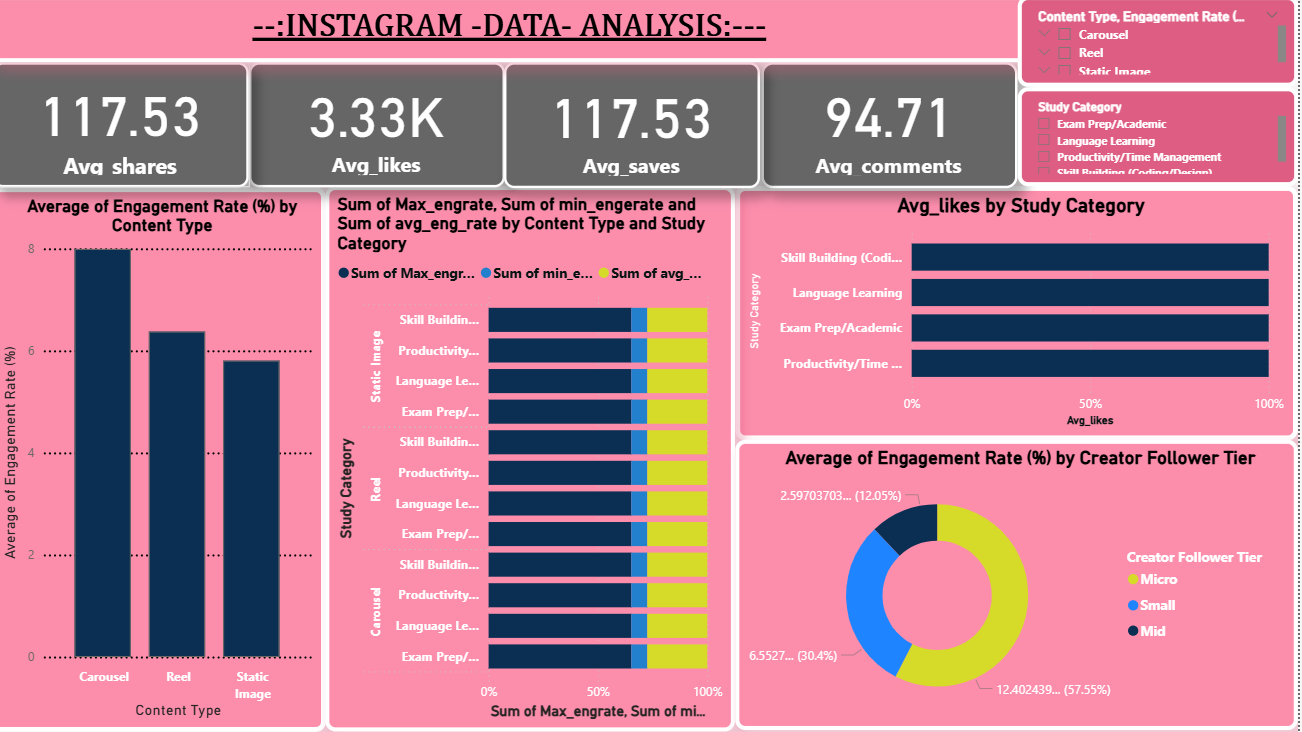

The page's visual inventory and layout, read from the dashboard file:
{"tool":"powerbi","page":{"name":"Page 2","canvas":[1280,720],"ordinal":10},"visuals":[{"type":"clusteredColumnChart","fields":{"Category":["Data.Content Type"],"Y":["Avg(Data.Engagement Rate (%))"]},"box":[0,186.9,329.5,532.6],"z":0},{"type":"hundredPercentStackedBarChart","fields":{"Category":["Data.Study Category"],"Y":["Data.Avg_likes"]},"box":[730.2,185.6,550,248.8],"z":1000},{"type":"hundredPercentStackedBarChart","fields":{"Category":["Data.Content Type","Data.Study Category"],"Y":["Sum(Data.Max_engrate)","Sum(Data.min_engerate)","Sum(Data.avg_eng_rate)"]},"box":[329.5,185.6,400.8,533.9],"z":2000},{"type":"card","fields":{"Values":["Data.Avg_likes"]},"box":[254.2,64.6,250.1,122.4],"z":3000},{"type":"card","fields":{"Values":["Data.Avg_comments"]},"box":[755.8,64.6,250.1,123],"z":4000},{"type":"card","fields":{"Values":["Data.Avg_shares"]},"box":[4,64.6,250.1,122.4],"z":5000},{"type":"card","fields":{"Values":["Data.Avg_saves"]},"box":[504.3,64.6,250.1,123],"z":6000},{"type":"donutChart","fields":{"Category":["Data.Creator Follower Tier"],"Y":["Avg(Data.Engagement Rate (%))"]},"box":[730.2,434.4,550,283.8],"z":7000},{"type":"textbox","box":[0,0,1018,64.6],"z":8000},{"type":"slicer","fields":{"Values":["Data.Content Type","Data.Engagement Rate (%)"]},"box":[1005.9,0,274.3,88.8],"z":9000},{"type":"slicer","fields":{"Values":["Data.Study Category"]},"box":[1005.9,88.8,274.3,96.8],"z":10000}]}

Visuals, with their boxes in screenshot pixels (x1, y1, x2, y2), scaled from the page's 1280x720 canvas onto the 1302x732 screenshot:
clusteredColumnChart - Data.Content Type x Avg(Data.Engagement Rate (%)): box(0, 190, 335, 731)
hundredPercentStackedBarChart - Data.Study Category x Data.Avg_likes: box(743, 189, 1301, 442)
hundredPercentStackedBarChart - Data.Content Type x Data.Study Category: box(335, 189, 743, 731)
card - Data.Avg_likes: box(259, 66, 513, 190)
card - Data.Avg_comments: box(769, 66, 1023, 191)
card - Data.Avg_shares: box(4, 66, 258, 190)
card - Data.Avg_saves: box(513, 66, 767, 191)
donutChart - Data.Creator Follower Tier x Avg(Data.Engagement Rate (%)): box(743, 442, 1301, 730)
textbox: box(0, 0, 1035, 66)
slicer - Data.Content Type x Data.Engagement Rate (%): box(1023, 0, 1301, 90)
slicer - Data.Study Category: box(1023, 90, 1301, 189)
